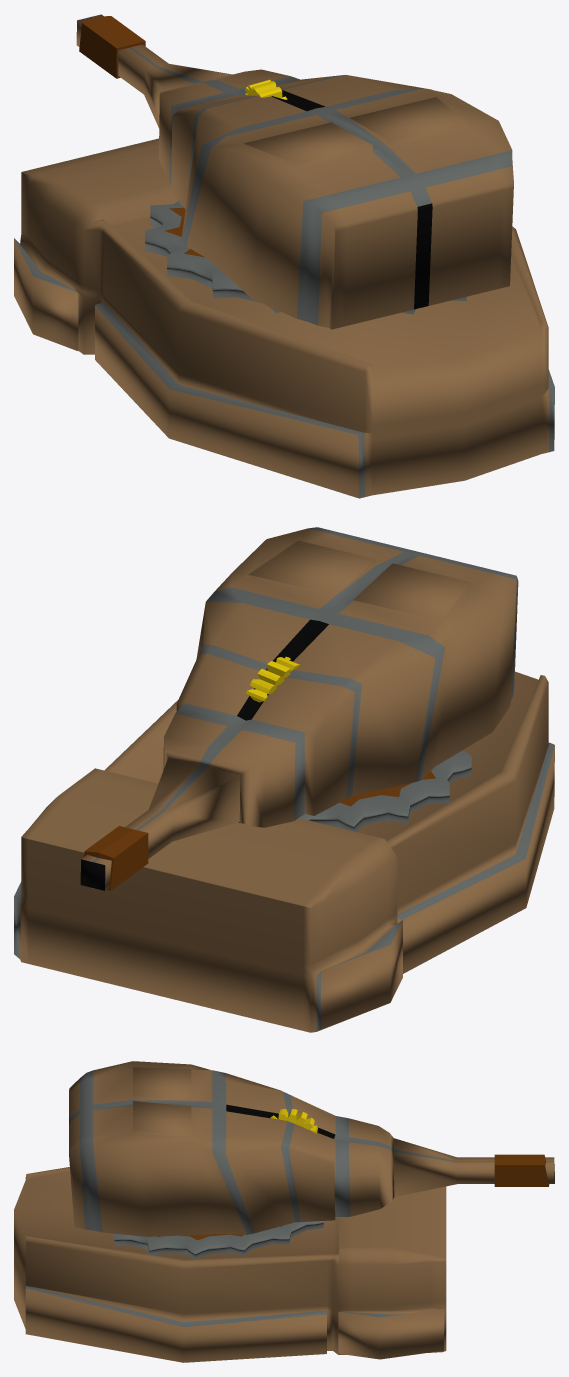
The model's file is TanqueCorsariocaAnimado.fbx.
3 renders of one model, top to bottom at view 1: azimuth 30°, elevation 25°; view 2: azimuth 150°, elevation 25°; view 3: azimuth 270°, elevation 25°, orthographic. The views are drawn at different scales.
Parts seen in each view (by area): view 1: Tanque, Canhão, Base Rotatória Canhão, Potenciador; view 2: Tanque, Canhão, Base Rotatória Canhão, Potenciador, Cog de Ataque; view 3: Tanque, Canhão, Base Rotatória Canhão, Potenciador, Cog de Ataque.
Part boxes in pixels (x1=…): Tanque: x1=14, y1=138, x2=554, y2=498; Canhão: x1=76, y1=14, x2=513, y2=329; Base Rotatória Canhão: x1=145, y1=201, x2=466, y2=314; Potenciador: x1=79, y1=16, x2=145, y2=78; Tanque: x1=14, y1=671, x2=554, y2=1032; Canhão: x1=80, y1=527, x2=518, y2=890; Base Rotatória Canhão: x1=299, y1=750, x2=471, y2=831; Potenciador: x1=84, y1=826, x2=148, y2=890; Cog de Ataque: x1=245, y1=656, x2=299, y2=702; Tanque: x1=14, y1=1167, x2=446, y2=1362; Canhão: x1=69, y1=1061, x2=554, y2=1236; Base Rotatória Canhão: x1=112, y1=1221, x2=323, y2=1259; Potenciador: x1=494, y1=1154, x2=549, y2=1186; Cog de Ataque: x1=270, y1=1109, x2=317, y2=1133.
Size of the model in its own units: 384 by 286 by 697.
